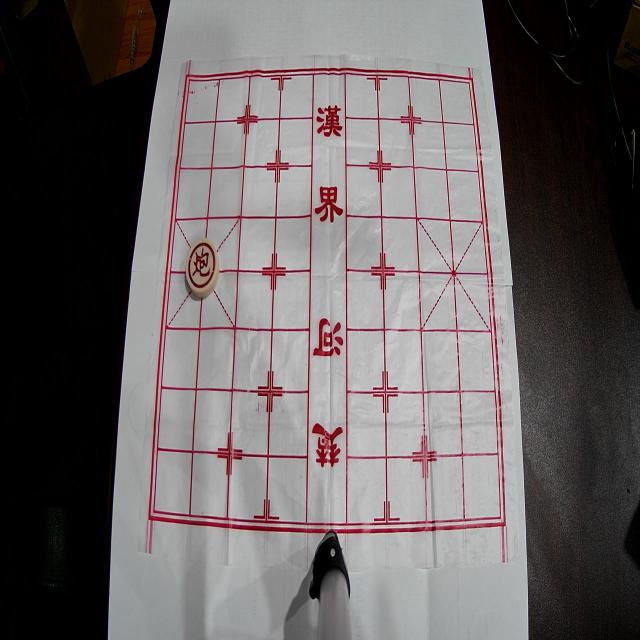red-cannon: (186, 238, 220, 298)
